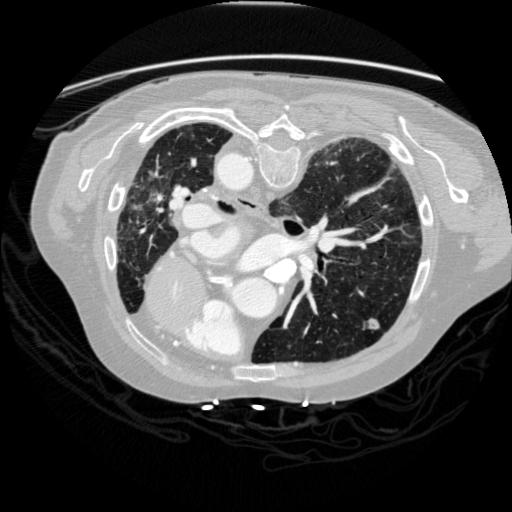nodule: (364, 316, 382, 334)
